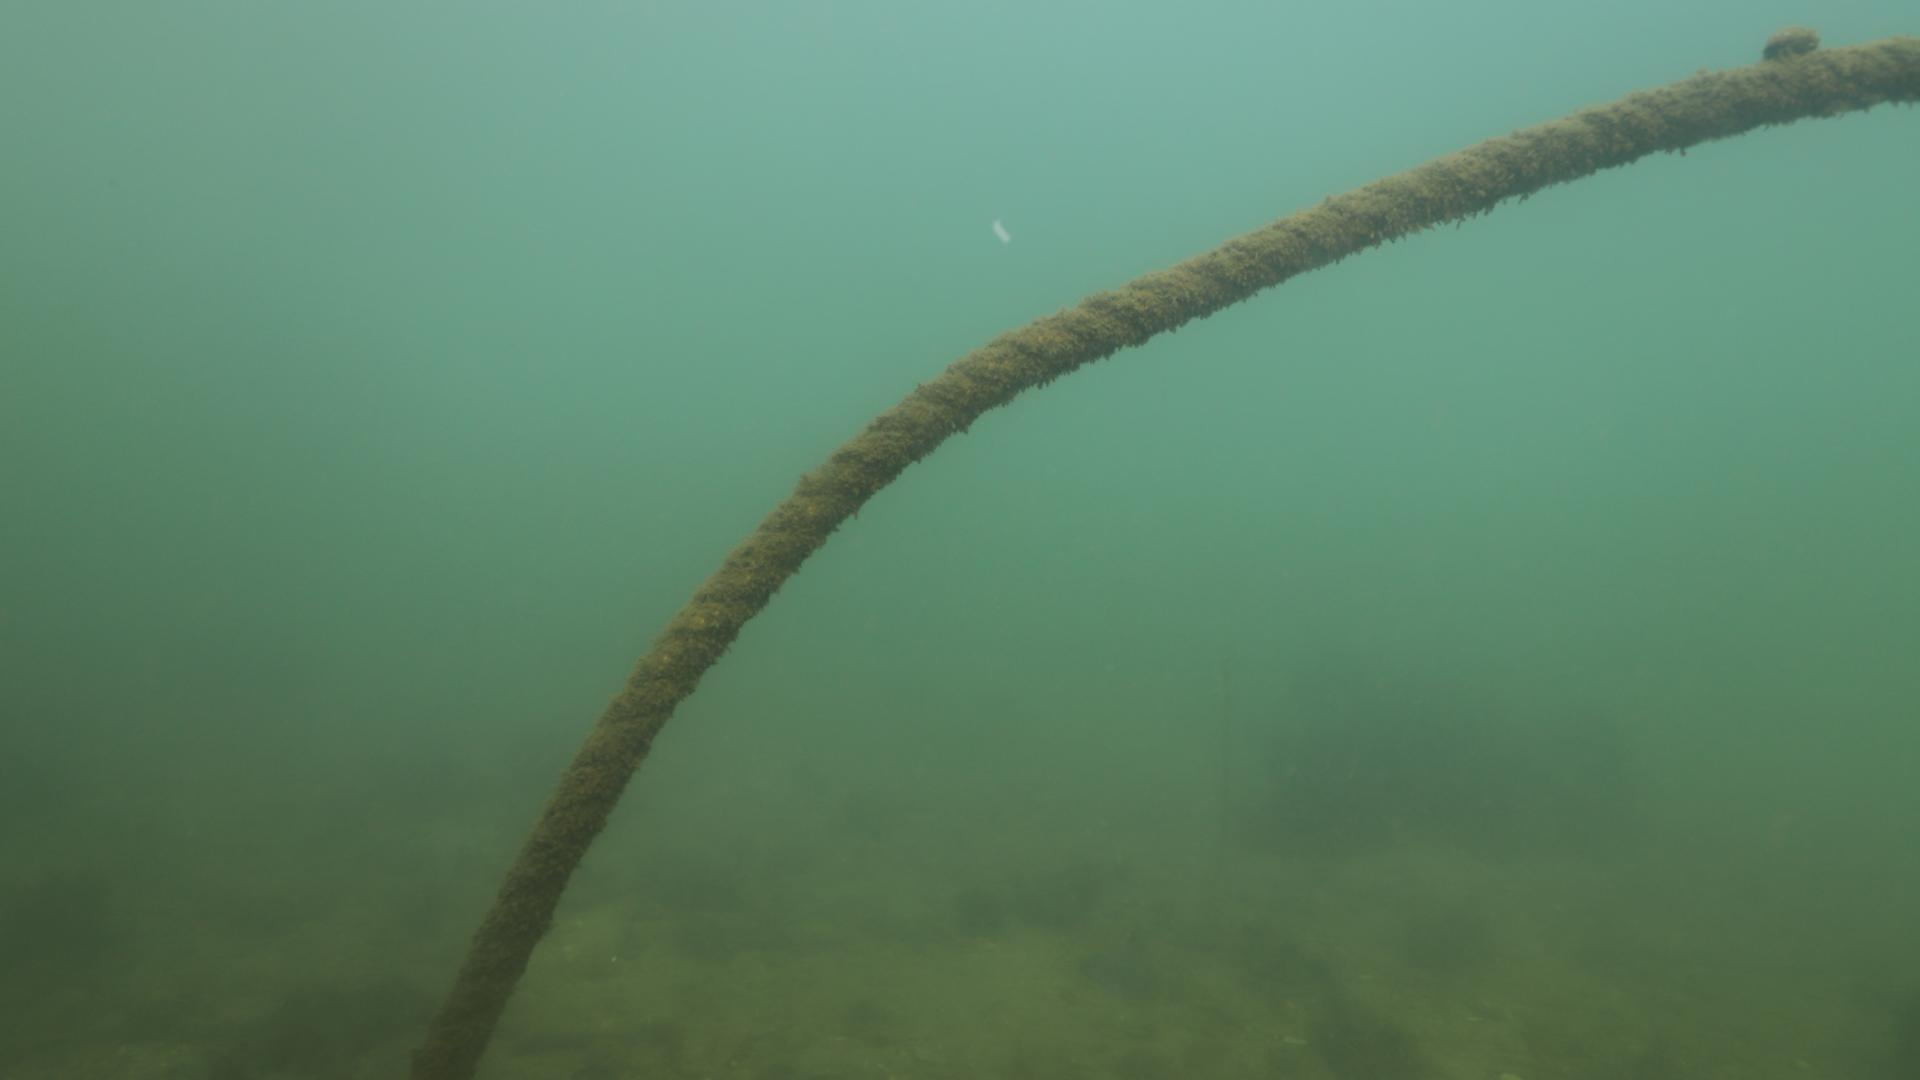rope: (381, 37, 1920, 1080)
